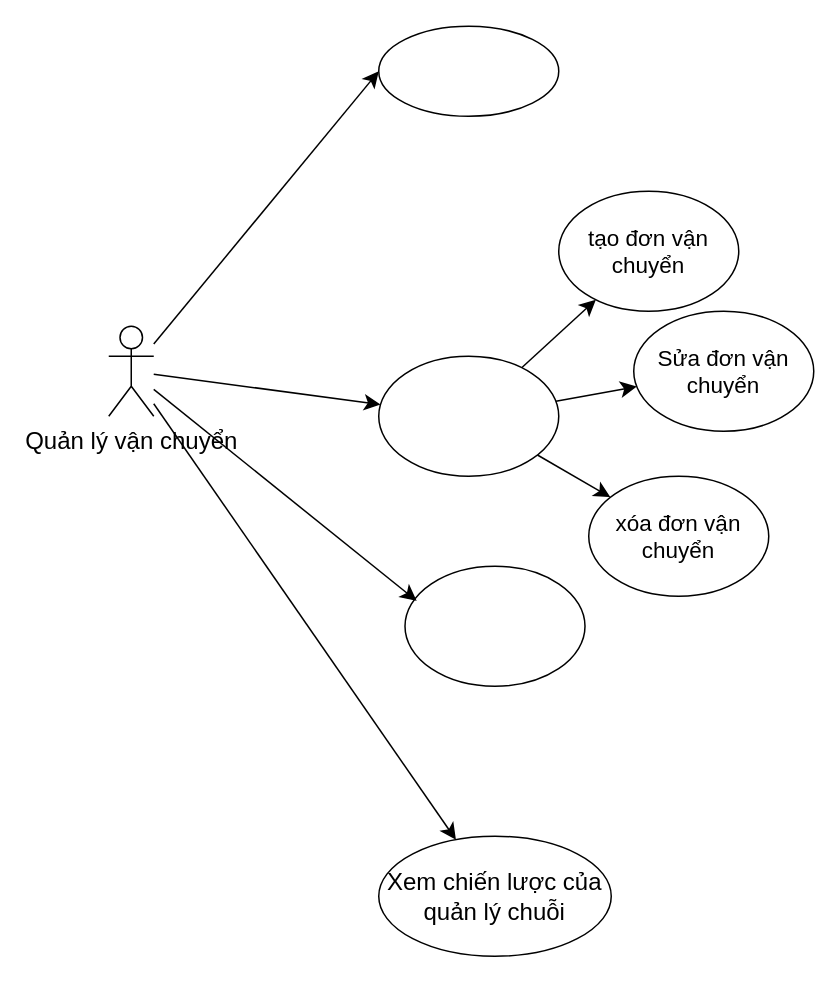
Image size: 840x983. Some labels were removed from this diagram. Here are the shapes that lost their labels. From the top down, the centre of each, then its label:
point 468,70: Nhắn tin
point 468,415: Quản lý đơn vận chuyển
point 494,625: Đăng nhập/Đăng ký
